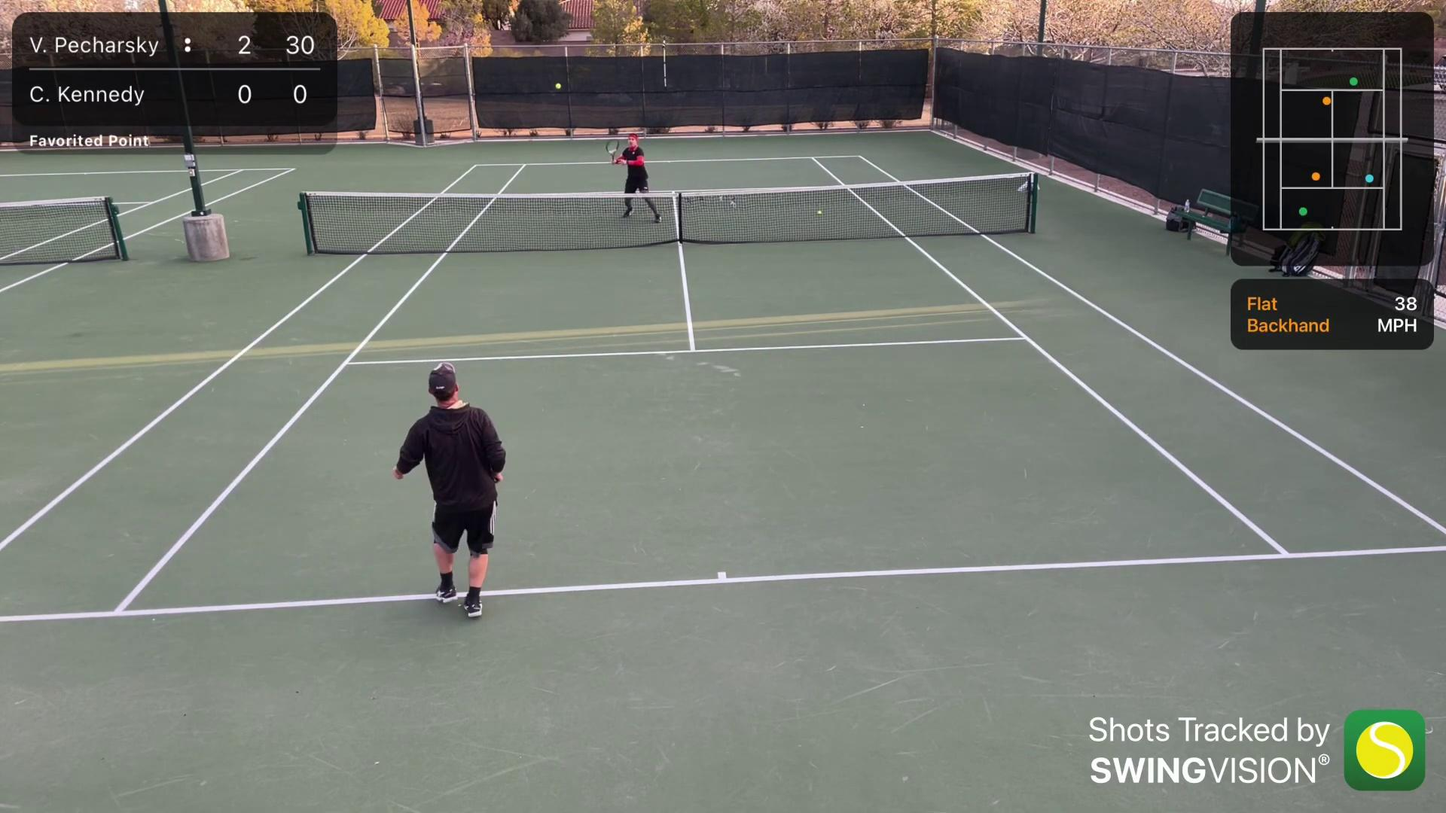ball: (555, 82, 562, 89), (816, 210, 822, 215)
